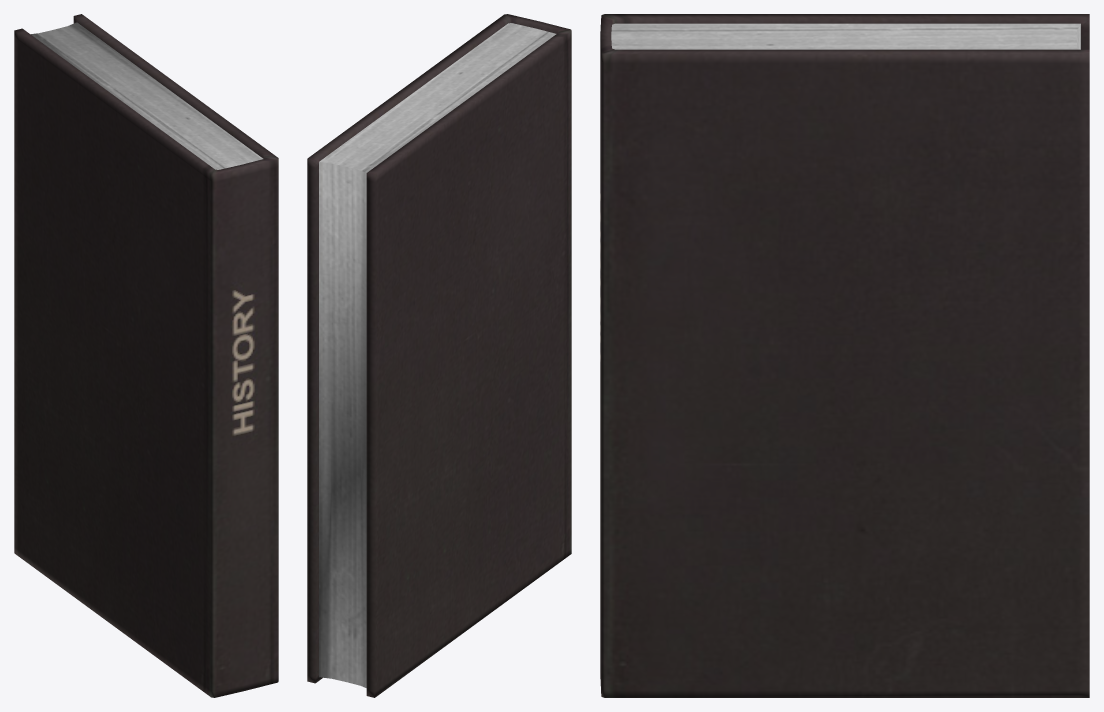
The model's file is SM_prop_Laboratory_Book_02.fbx.
The picture shows the model from 3 angles, left to right: view 1: azimuth 30°, elevation 25°; view 2: azimuth 150°, elevation 25°; view 3: azimuth 270°, elevation 25°; orthographic projection. The views are drawn at different scales.
Parts seen in each view (by area): view 1: SM_prop_Laboratory_Book_02; view 2: SM_prop_Laboratory_Book_02; view 3: SM_prop_Laboratory_Book_02.
Part boxes in pixels (left/top/right/bottom): SM_prop_Laboratory_Book_02: left=14, top=14, right=278, bottom=697; SM_prop_Laboratory_Book_02: left=307, top=14, right=571, bottom=697; SM_prop_Laboratory_Book_02: left=600, top=14, right=1089, bottom=697.
Size of the model in its own units: 2.55 by 18.87 by 13.
Materials: 1 (1 with a texture image).
